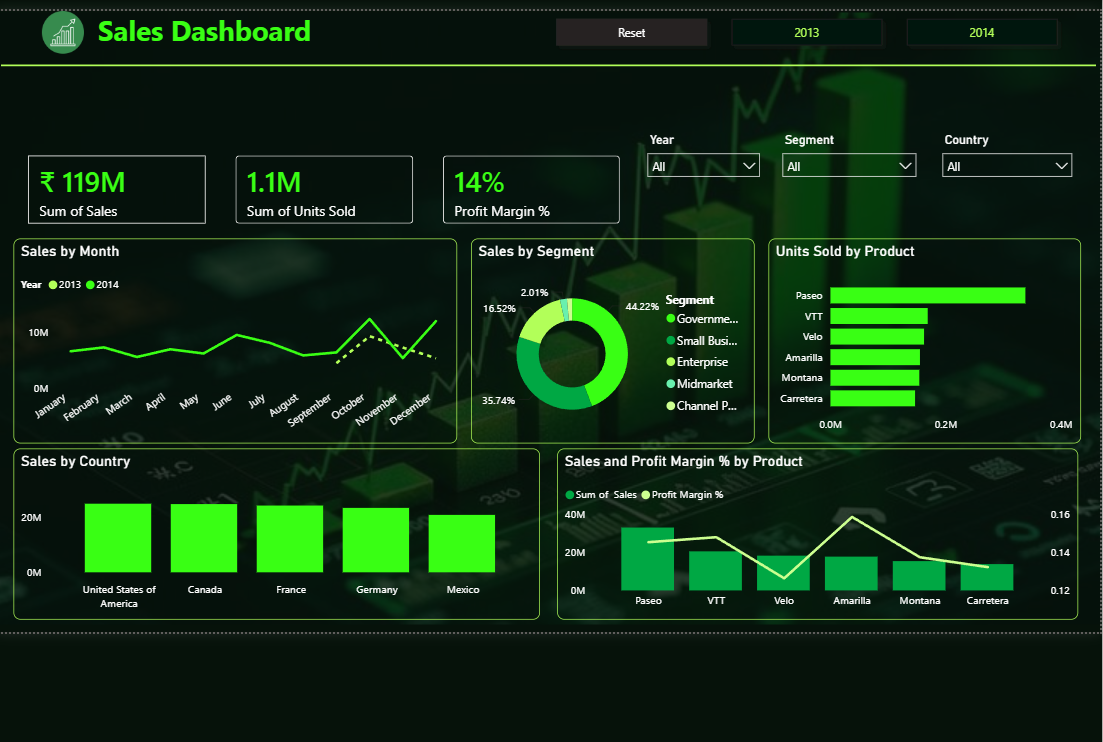

The page's visual inventory and layout, read from the dashboard file:
{"tool":"powerbi","page":{"name":"Page 1","canvas":[1280,720],"ordinal":0},"visuals":[{"type":"lineChart","title":" Sales by Month ","fields":{"Category":["financials.Month Name"],"Y":["Sum(financials. Sales)"],"Series":["financials.Year"]},"box":[20.3,263.8,514.5,237.7],"z":0},{"type":"clusteredColumnChart","title":" Sales by Country","fields":{"Y":["Sum(financials. Sales)"],"Category":["financials.Country"]},"box":[20.3,507.2,610.1,198.6],"z":1000},{"type":"clusteredBarChart","title":" Units Sold by Product","fields":{"Category":["financials.Product"],"Y":["Sum(financials.Units Sold)"]},"box":[895.7,263.8,362.3,237.7],"z":2000},{"type":"donutChart","title":"  Sales by Segment","fields":{"Category":["financials.Segment"],"Y":["Sum(financials. Sales)"]},"box":[550.7,263.8,329,237.7],"z":3000},{"type":"cardVisual","fields":{"Data":["Sum(financials. Sales)"]},"box":[20.3,150.7,240.6,113],"z":4000},{"type":"cardVisual","fields":{"Data":["Sum(financials.Units Sold)"]},"box":[260.9,150.7,240.6,113],"z":6000},{"type":"slicer","fields":{"Values":["financials.Segment"]},"box":[901.4,136.2,175.4,65.2],"z":7000},{"type":"slicer","fields":{"Values":["financials.Country"]},"box":[1087,136.2,171,65.2],"z":8000},{"type":"cardVisual","fields":{"Data":["financials.Profit Margin %"]},"box":[501.4,150.7,239.1,113],"z":9000},{"type":"lineClusteredColumnComboChart","title":"Sales and Profit Margin % by Product","fields":{"Category":["financials.Product"],"Y":["Sum(financials. Sales)"],"Y2":["financials.Profit Margin %"]},"box":[650.7,507.2,604.3,198.6],"z":10000},{"type":"textbox","title":"Sales Dashboard","box":[113,0,268.1,49.3],"z":11000},{"type":"bookmarkNavigator","box":[640.6,0,600,49.3],"z":12000},{"type":"slicer","fields":{"Values":["financials.Year"]},"box":[744.9,136.2,150.7,76.8],"z":13000},{"type":"image","box":[42,0,71,49.3],"z":13001},{"type":"shape","box":[5.8,39.1,1269.6,47.8],"z":13002}]}

Visuals, with their boxes on the page's 1280x720 design canvas (x1, y1, x2, y2). These are canvas units, not pixel positions in the 1103x742 screenshot, which may show the page scaled, cropped or inside an application window:
" Sales by Month " lineChart: {"left": 20, "top": 264, "right": 535, "bottom": 502}
" Sales by Country" clusteredColumnChart: {"left": 20, "top": 507, "right": 630, "bottom": 706}
" Units Sold by Product" clusteredBarChart: {"left": 896, "top": 264, "right": 1258, "bottom": 502}
"  Sales by Segment" donutChart: {"left": 551, "top": 264, "right": 880, "bottom": 502}
cardVisual - Sum(financials. Sales): {"left": 20, "top": 151, "right": 261, "bottom": 264}
cardVisual - Sum(financials.Units Sold): {"left": 261, "top": 151, "right": 502, "bottom": 264}
slicer - financials.Segment: {"left": 901, "top": 136, "right": 1077, "bottom": 201}
slicer - financials.Country: {"left": 1087, "top": 136, "right": 1258, "bottom": 201}
cardVisual - financials.Profit Margin %: {"left": 501, "top": 151, "right": 740, "bottom": 264}
"Sales and Profit Margin % by Product" lineClusteredColumnComboChart: {"left": 651, "top": 507, "right": 1255, "bottom": 706}
"Sales Dashboard" textbox: {"left": 113, "top": 0, "right": 381, "bottom": 49}
bookmarkNavigator: {"left": 641, "top": 0, "right": 1241, "bottom": 49}
slicer - financials.Year: {"left": 745, "top": 136, "right": 896, "bottom": 213}
image: {"left": 42, "top": 0, "right": 113, "bottom": 49}
shape: {"left": 6, "top": 39, "right": 1275, "bottom": 87}
